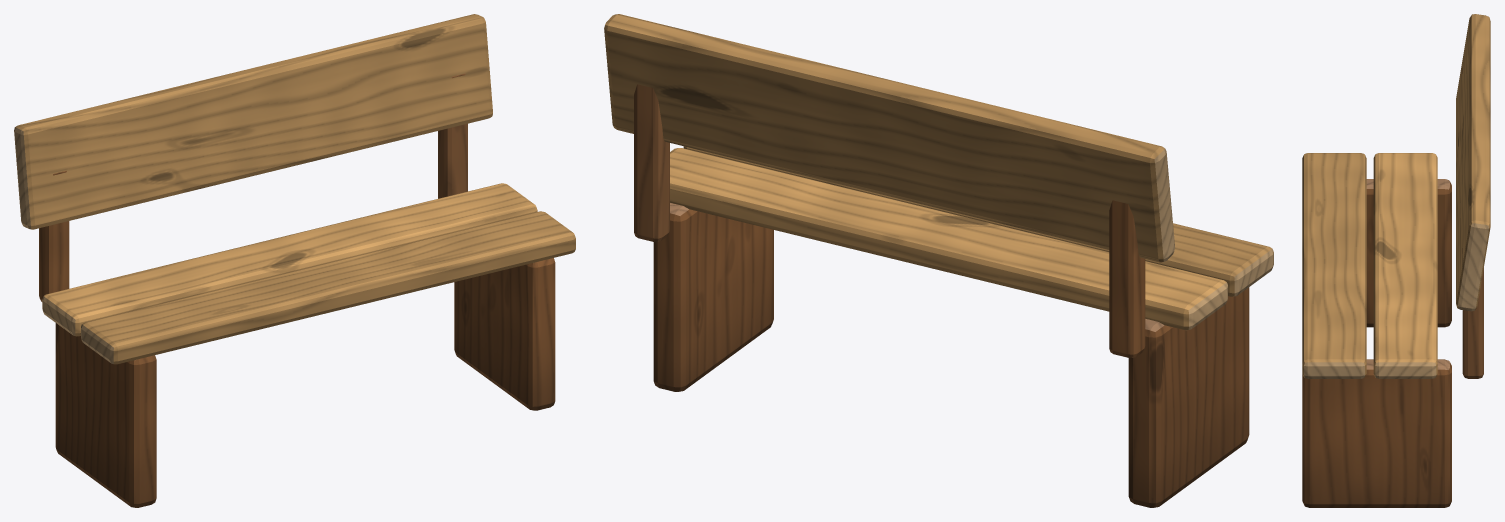
The model's file is bench.glb.
The picture shows the model from 3 angles, left to right: view 1: azimuth 30°, elevation 25°; view 2: azimuth 150°, elevation 25°; view 3: azimuth 270°, elevation 25°; orthographic projection. The views are drawn at different scales.
Visible parts, largest first — view 1: Bench; view 2: Bench; view 3: Bench.
Boxes of the visible parts, x1=… form: Bench: x1=14, y1=14, x2=575, y2=507; Bench: x1=604, y1=14, x2=1273, y2=507; Bench: x1=1302, y1=14, x2=1490, y2=507.
Bounding box in the file's own units: 1.4 × 0.9207 × 0.5283.
Materials: 1 (1 with a texture image).
